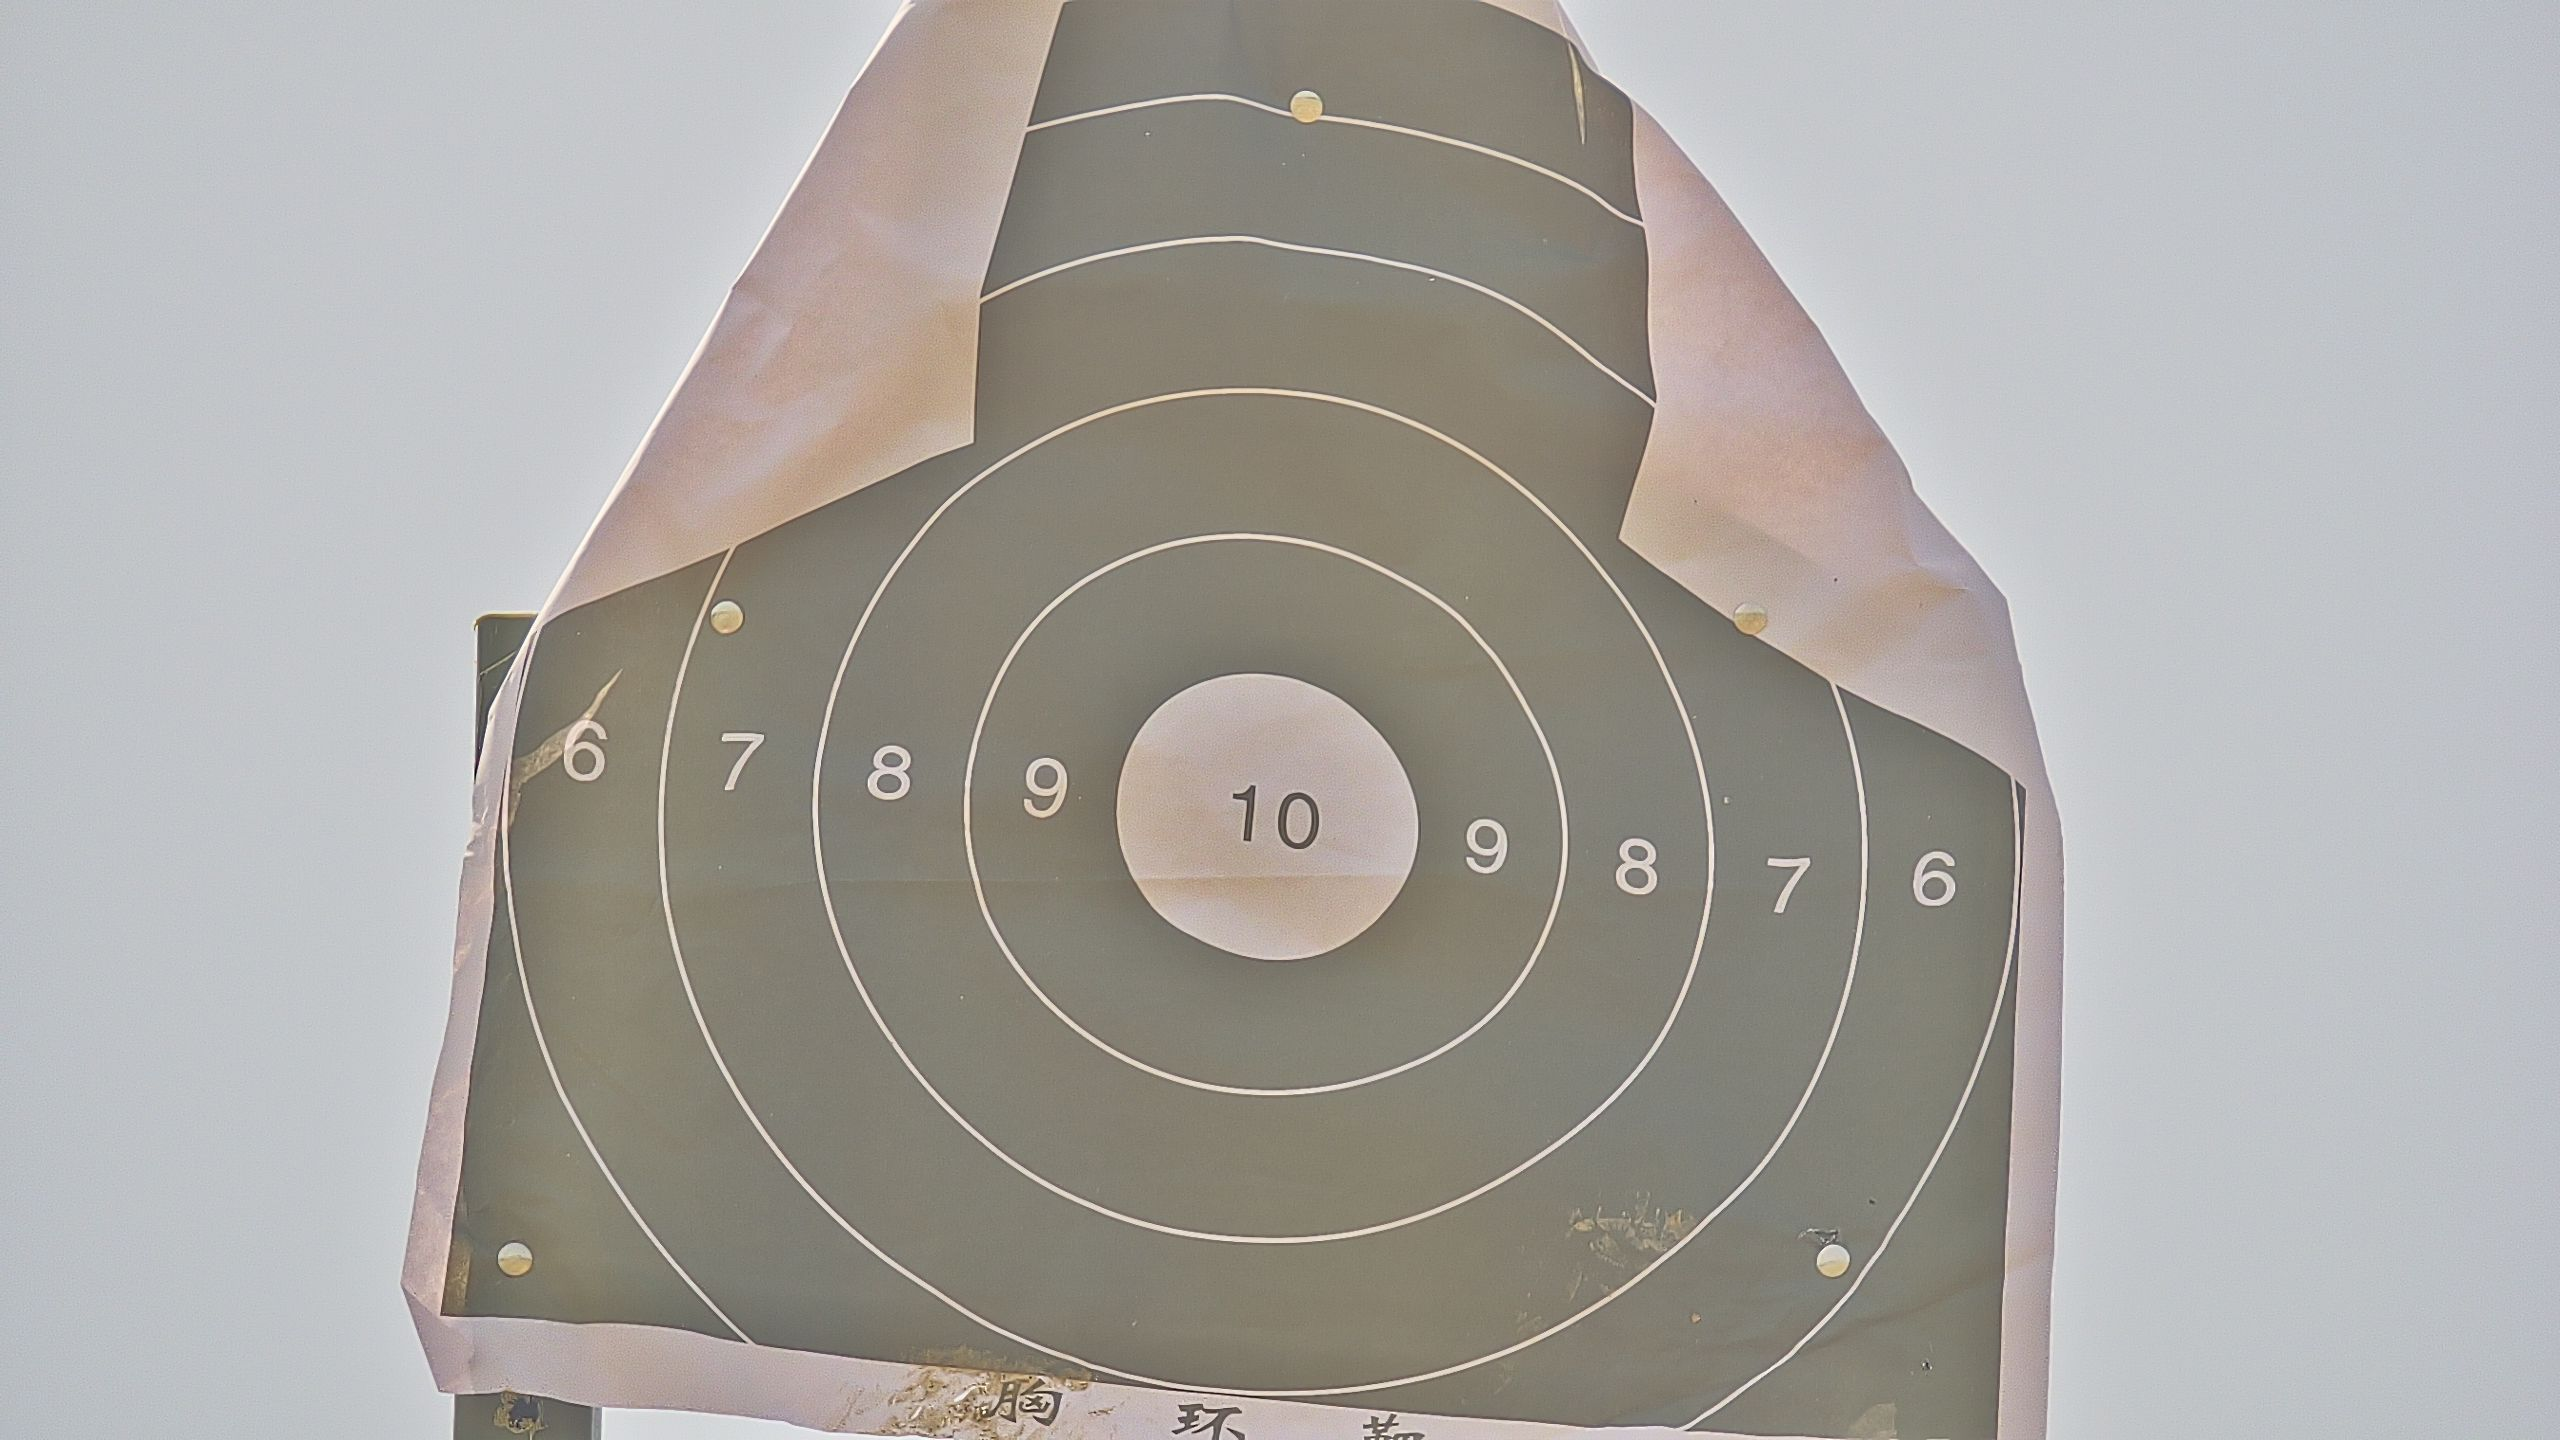kernel: (1259, 816, 1266, 823)
target: (427, 2, 2027, 1440)
ten: (1116, 672, 1422, 962)
